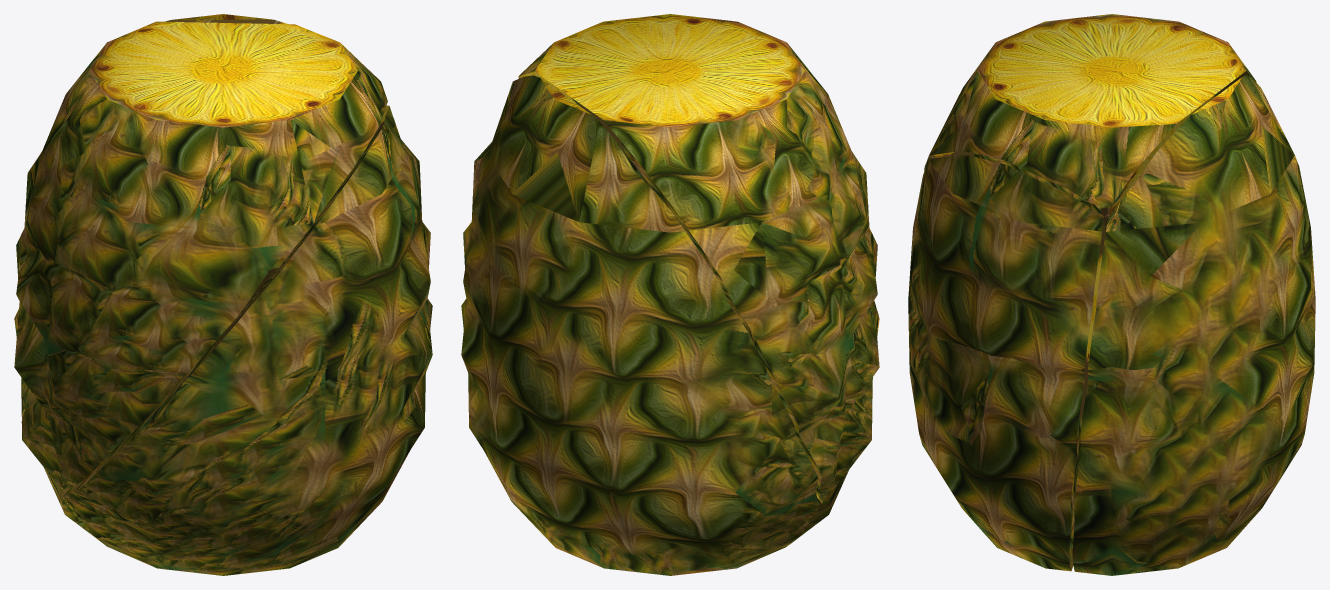
File: pineapple.fbx
The picture shows the model from 3 angles, left to right: view 1: azimuth 30°, elevation 25°; view 2: azimuth 150°, elevation 25°; view 3: azimuth 270°, elevation 25°; orthographic projection.
Visible parts, largest first — view 1: Pineapple_cell, Pineapple_cell.002, Pineapple_cell.001; view 2: Pineapple_cell.001, Pineapple_cell, Pineapple_cell.002; view 3: Pineapple_cell.001, Pineapple_cell.002, Pineapple_cell.
Part boxes in pixels (x1,y1,x2,y2): Pineapple_cell: (14,21,387,492); Pineapple_cell.002: (63,105,432,575); Pineapple_cell.001: (14,14,288,541); Pineapple_cell.001: (461,75,818,575); Pineapple_cell: (518,14,879,501); Pineapple_cell.002: (789,317,879,544); Pineapple_cell.001: (1072,74,1315,575); Pineapple_cell.002: (908,154,1105,571); Pineapple_cell: (924,14,1256,232).
Size of the model in its own units: 23.54 by 26.78 by 22.03.
